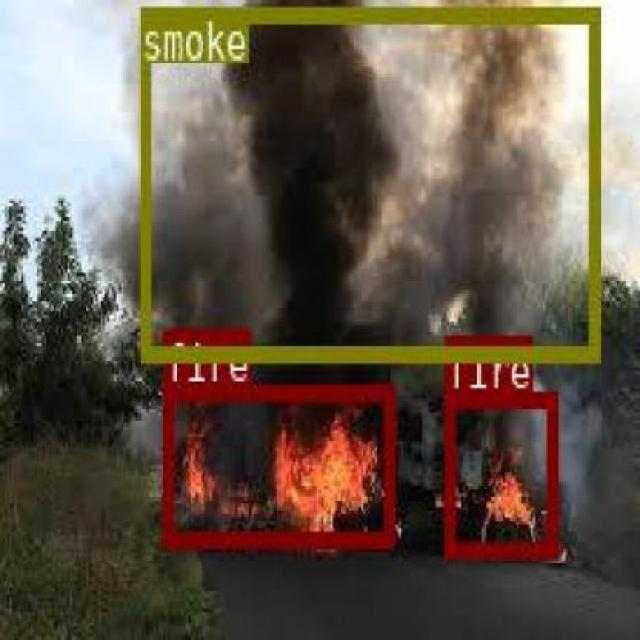CIV_Plane: (160, 383, 394, 543), (444, 392, 554, 554)
Fire: (160, 383, 394, 543), (444, 392, 554, 554)
Smoke: (138, 0, 596, 296)
